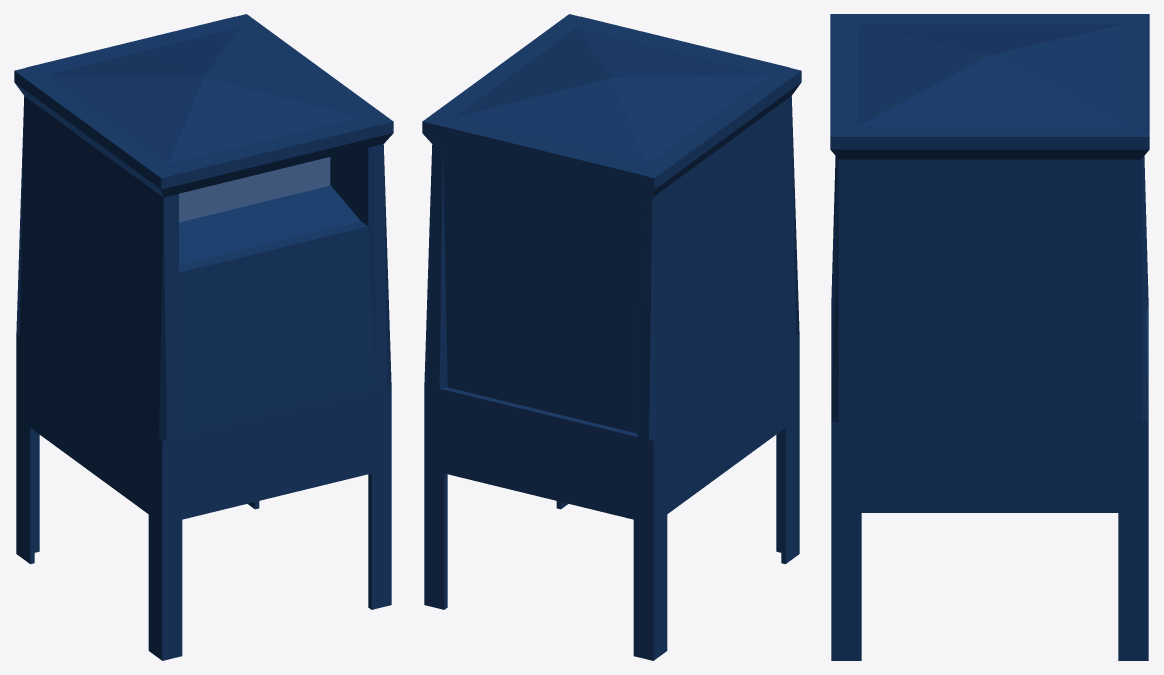
The model's file is Mailbox.fbx.
3 views of the same model, side by side, from view 1: azimuth 30°, elevation 25°; view 2: azimuth 150°, elevation 25°; view 3: azimuth 270°, elevation 25° (orthographic). The views are drawn at different scales.
Visible parts, largest first — view 1: MailBox, Lid; view 2: MailBox; view 3: MailBox.
Part boxes in pixels (<box>): MailBox: <box>14,14,393,660</box>; Lid: <box>179,157,330,222</box>; MailBox: <box>422,14,801,660</box>; MailBox: <box>830,14,1149,660</box>.
Bounding box in the file's own units: 74.26 × 153 × 81.39.
